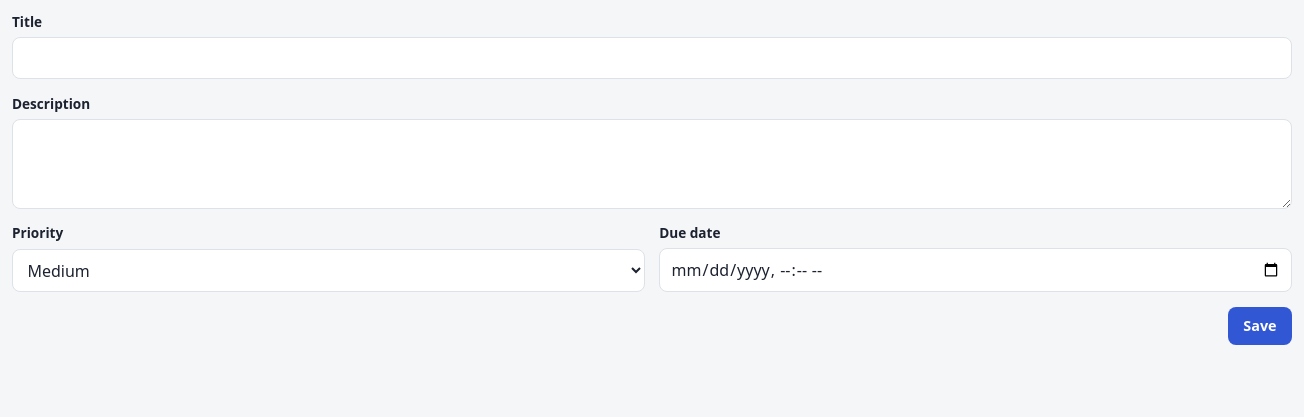
it: TaskForm › shows an error without a field as a message for the whole form
The width and height of the screenshot is (1304, 417).
Click the button "Save" at point(1260, 326), box [1228,307,1292,345]
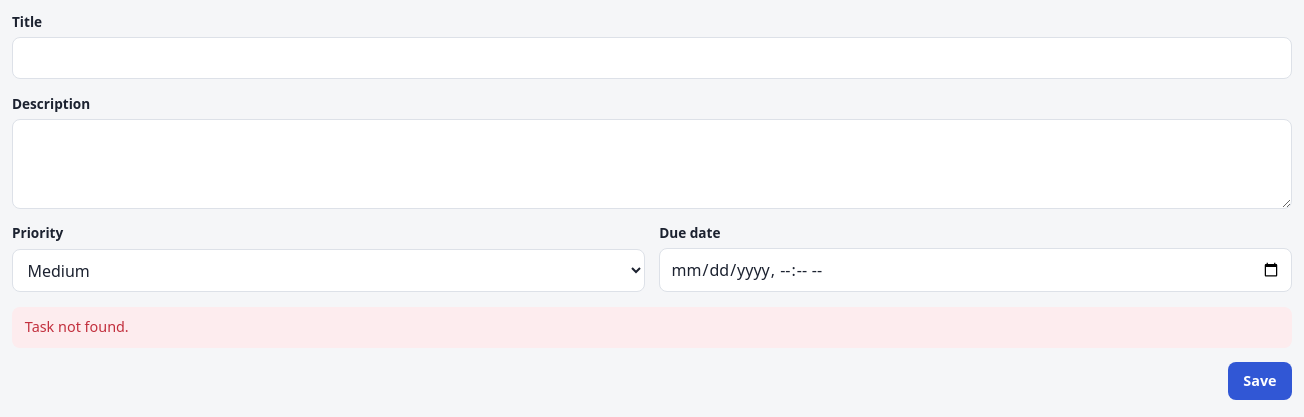
Result: the message reads "Task not found." at [25,317,129,336]
